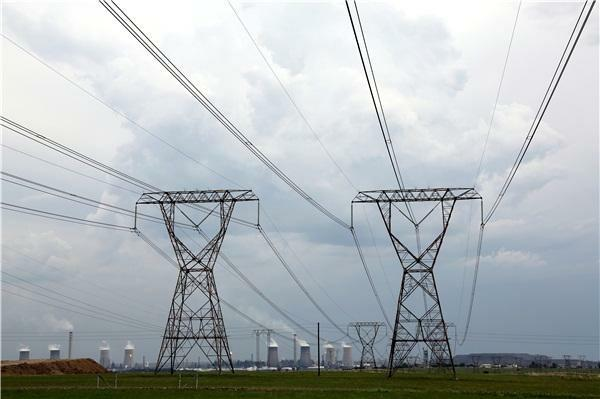power_tower: (348, 182, 496, 371), (130, 178, 267, 377), (347, 317, 386, 367)
